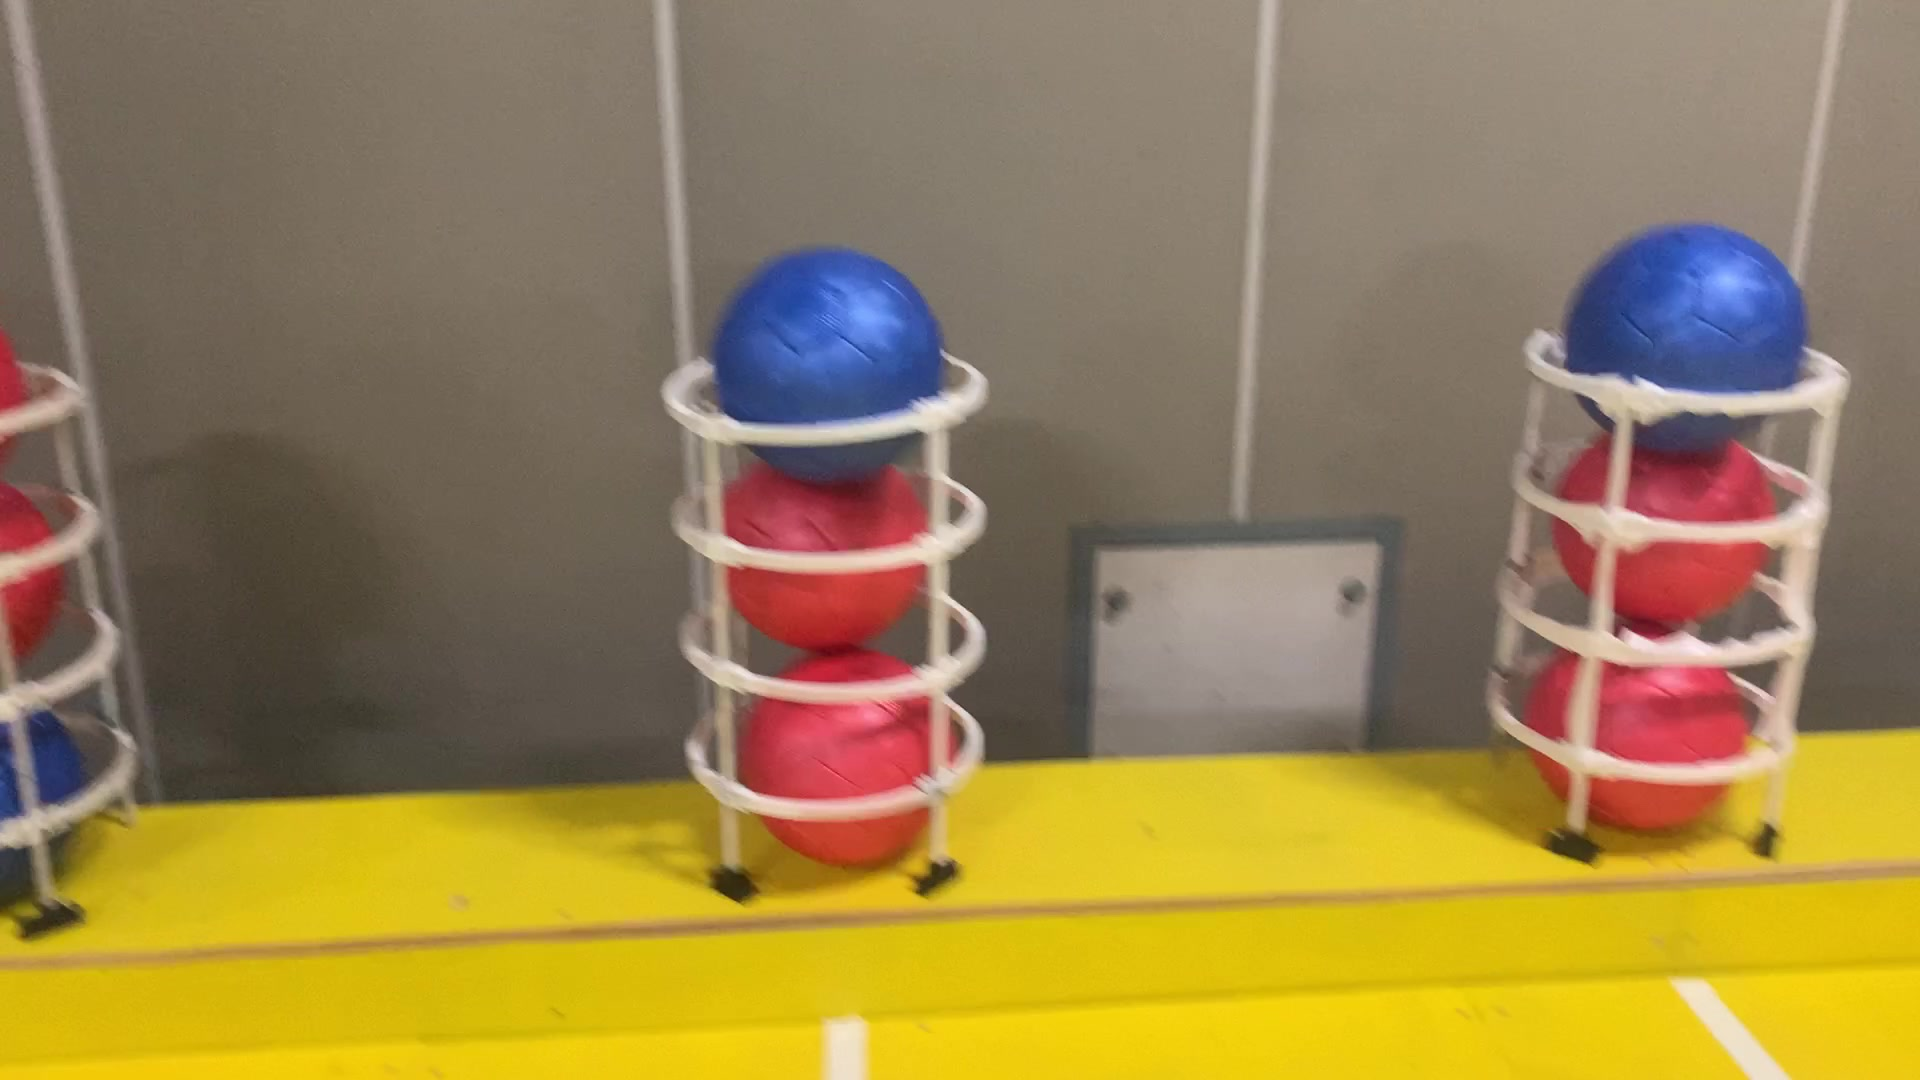blue: (1565, 210, 1820, 459), (708, 251, 947, 487), (0, 666, 75, 910)
red: (1531, 621, 1751, 844), (1560, 417, 1782, 633), (741, 650, 964, 865), (716, 448, 931, 655), (0, 489, 59, 683), (0, 319, 32, 476)
